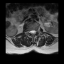CCS_normal: (32, 28, 33, 36)
LFS_normal: (35, 29, 38, 35)
LLS_normal: (33, 29, 35, 35)
RFS_normal: (27, 29, 30, 34)
RLS_normal: (29, 29, 32, 35)
